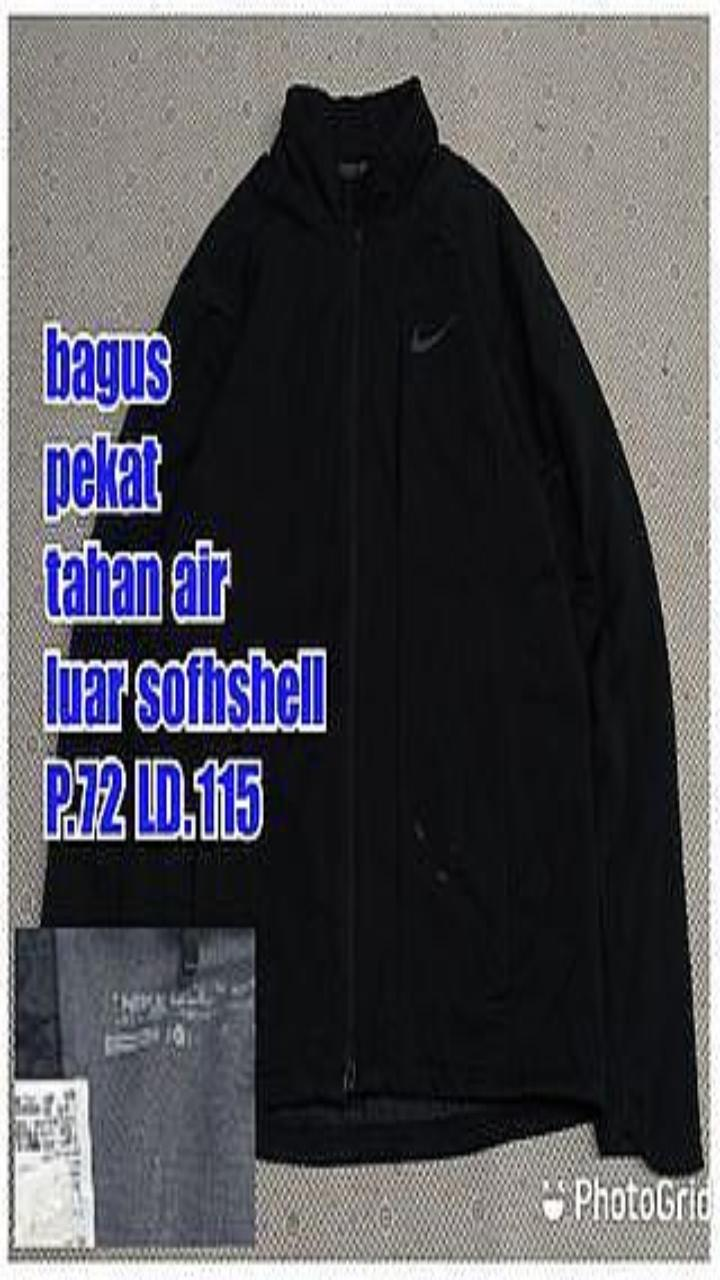Sports_Jacket: (43, 78, 701, 1174)
